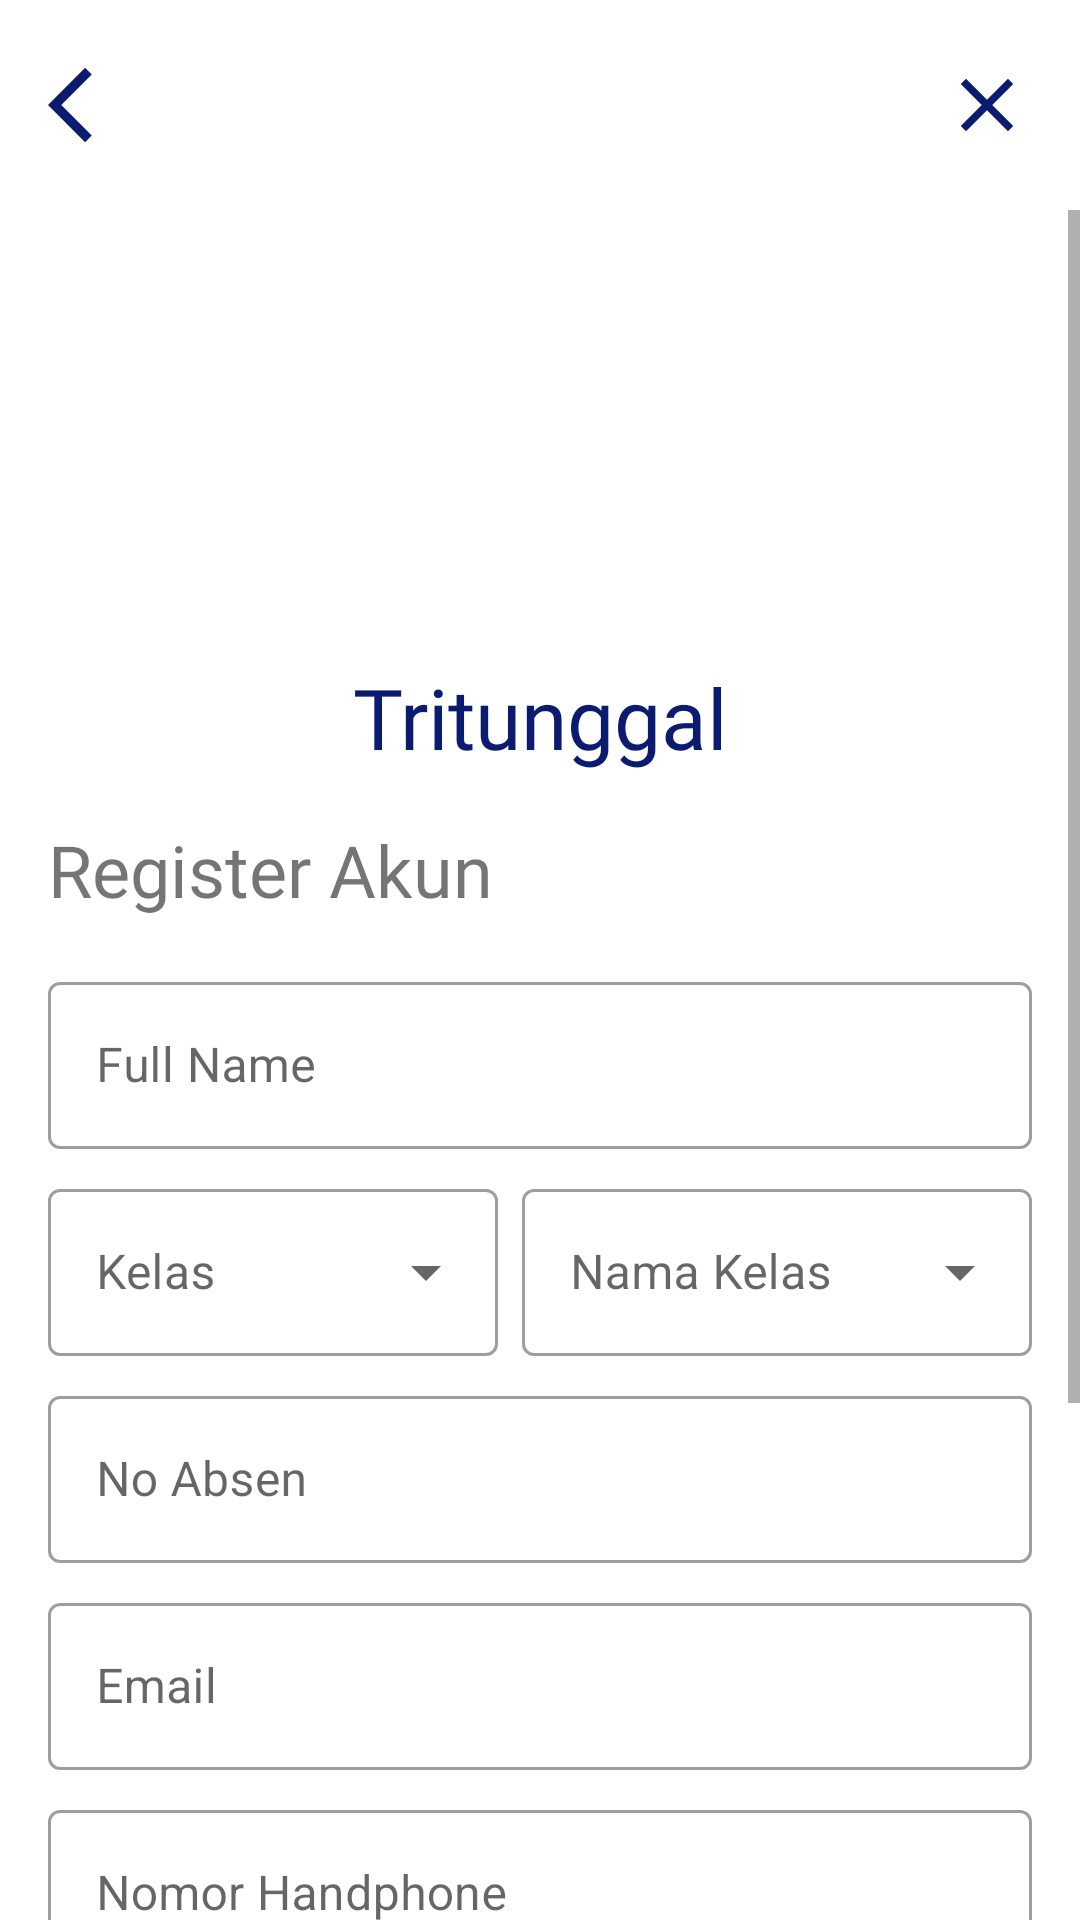

Icon click points for this 1080 × 1920 phone screenshot, format point (x, y):
arrow back: point (70, 105)
close: point (987, 105)
